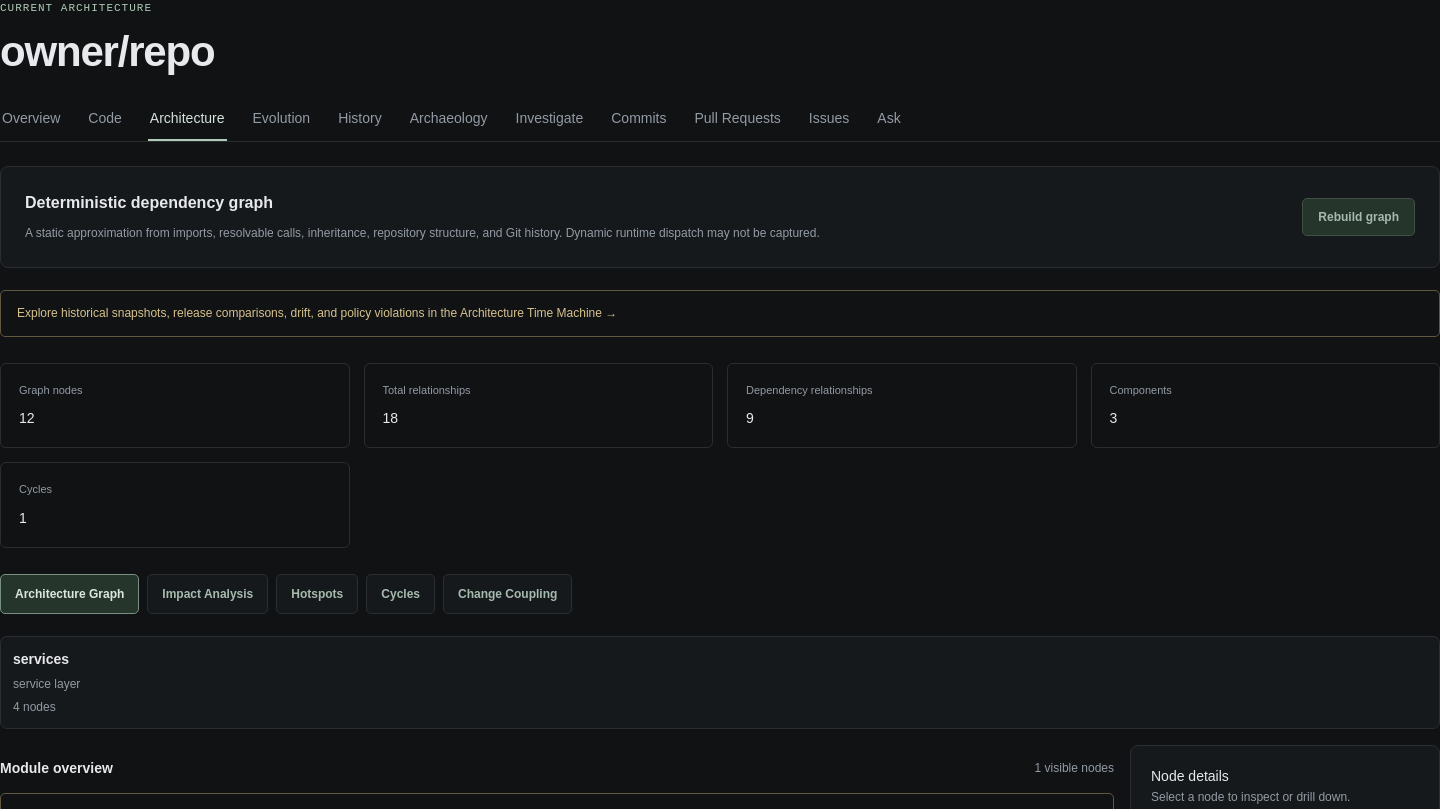
it: current architecture › explains tied hotspots, empty coupling, and an empty module graph
The image size is (1440, 809).
Click the tab "Hotspots": (317, 594) [276,574,358,614]
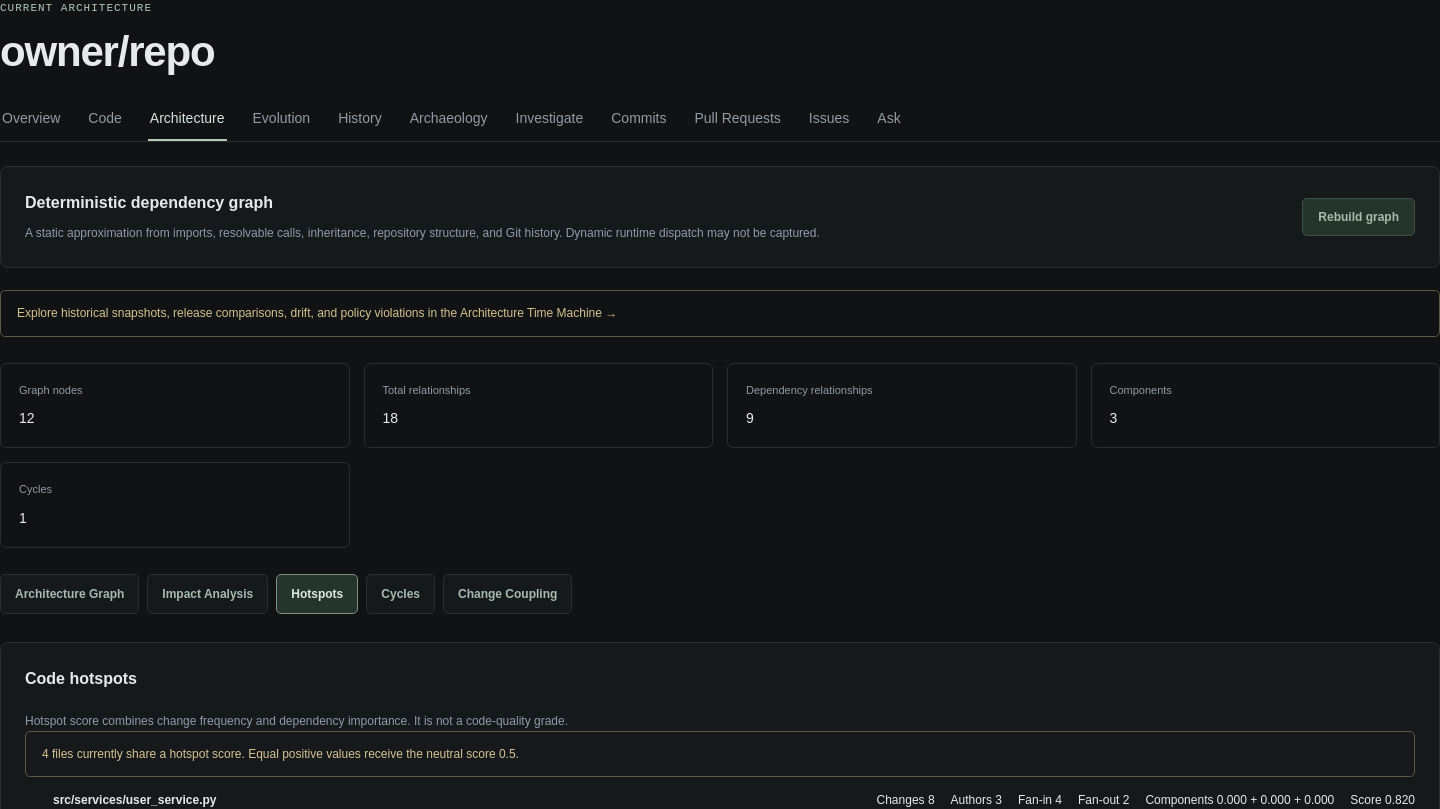
Check: the text "4 files currently share" is shown, box [25,731,1415,777]
Click the tab "Change Coupling": (508, 594) [443,574,572,614]
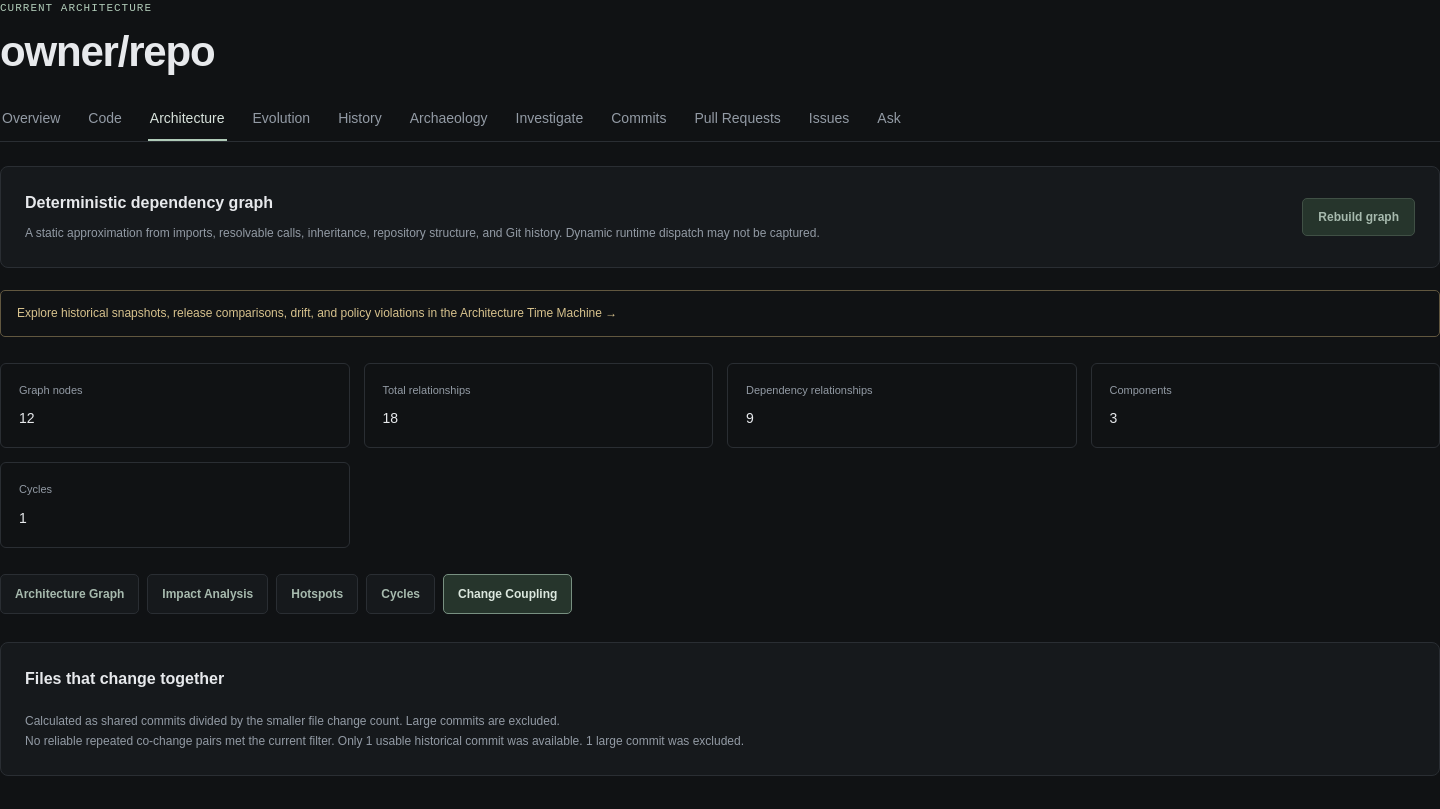
Check: the text "Only 1 usable historical commit was available" is shown, box [334,734,583,748]
Check: the text "1 large commit was excluded" is shown, box [583,734,744,748]
